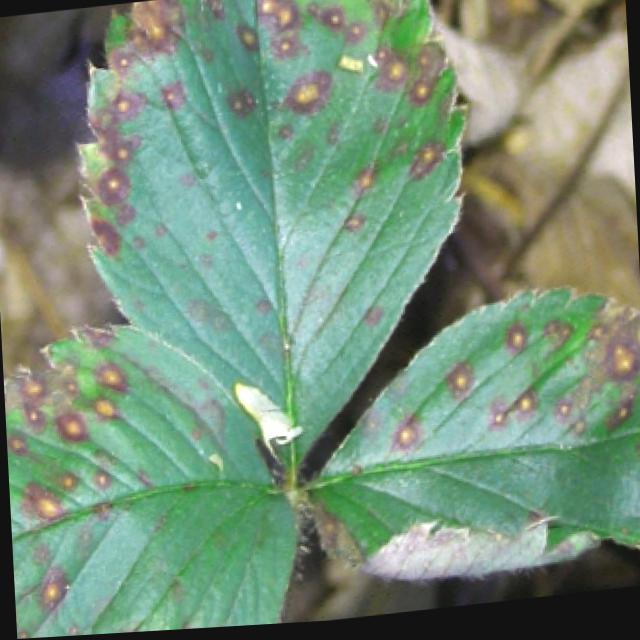Leaf Spot: (74, 0, 469, 481), (305, 291, 640, 586), (2, 323, 299, 639)
